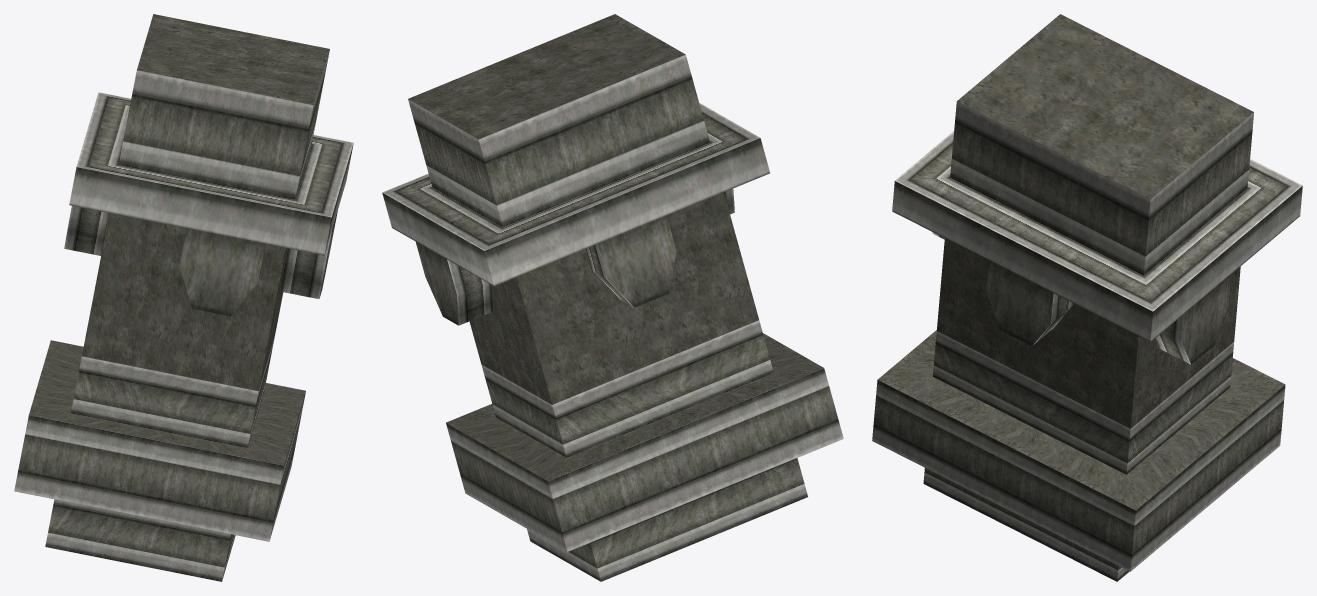
File: DWARF_PALACE_MAINHALL_BALK_DEBREE05.fbx
3 views of the same model, side by side, from view 1: azimuth 30°, elevation 25°; view 2: azimuth 150°, elevation 25°; view 3: azimuth 270°, elevation 25° (orthographic). The views are drawn at different scales.
Visible parts, largest first — view 1: DWARF_PALACE_MAINHALL_BALK_DEBREE05; view 2: DWARF_PALACE_MAINHALL_BALK_DEBREE05; view 3: DWARF_PALACE_MAINHALL_BALK_DEBREE05.
Boxes of the visible parts, bbox=[...] form: DWARF_PALACE_MAINHALL_BALK_DEBREE05: bbox=[14, 14, 353, 581]; DWARF_PALACE_MAINHALL_BALK_DEBREE05: bbox=[382, 14, 843, 581]; DWARF_PALACE_MAINHALL_BALK_DEBREE05: bbox=[872, 14, 1302, 581].
Bounding box in the file's own units: 18279 × 21894 × 16928.
Materials: 2 (2 with a texture image).
